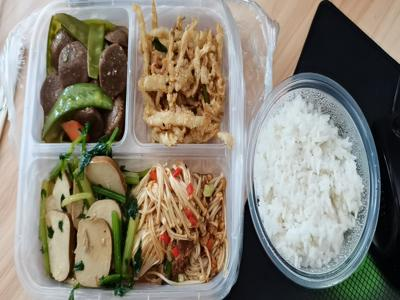rice: (249, 86, 375, 286)
